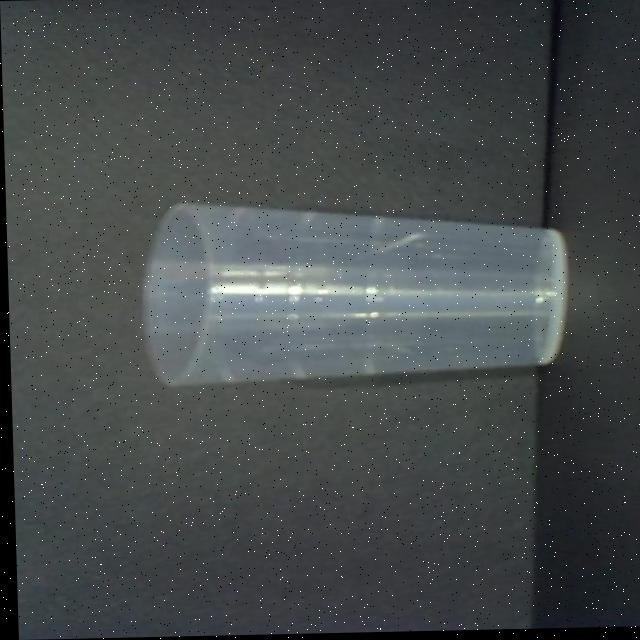cup: (141, 203, 566, 385)
